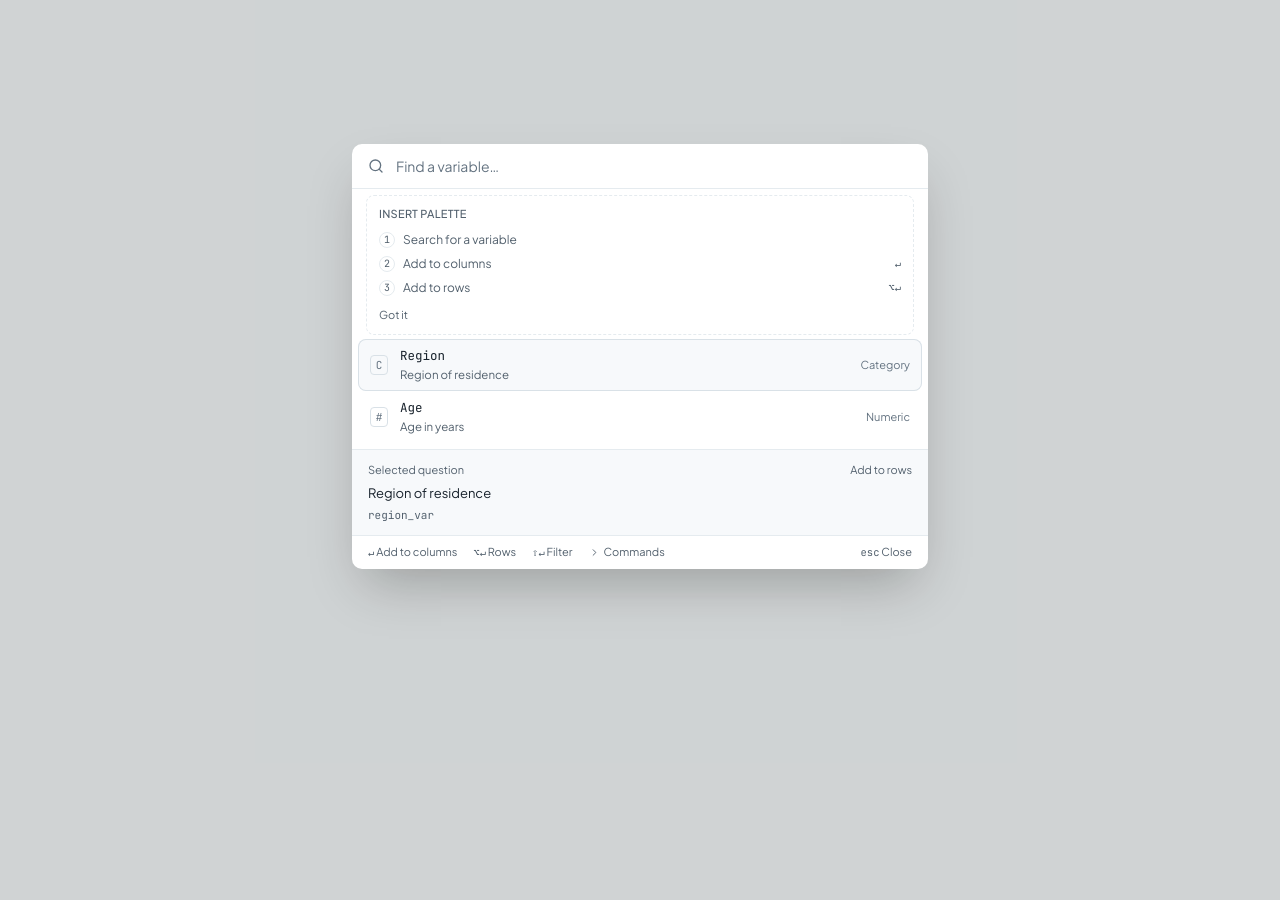
Test: CommandPalette (insert palette) › shows commands behind the > prefix
Type ">" into the field with placeholder "Find a variable…".
click(654, 166); type(">")  # box [396,156,912,176]
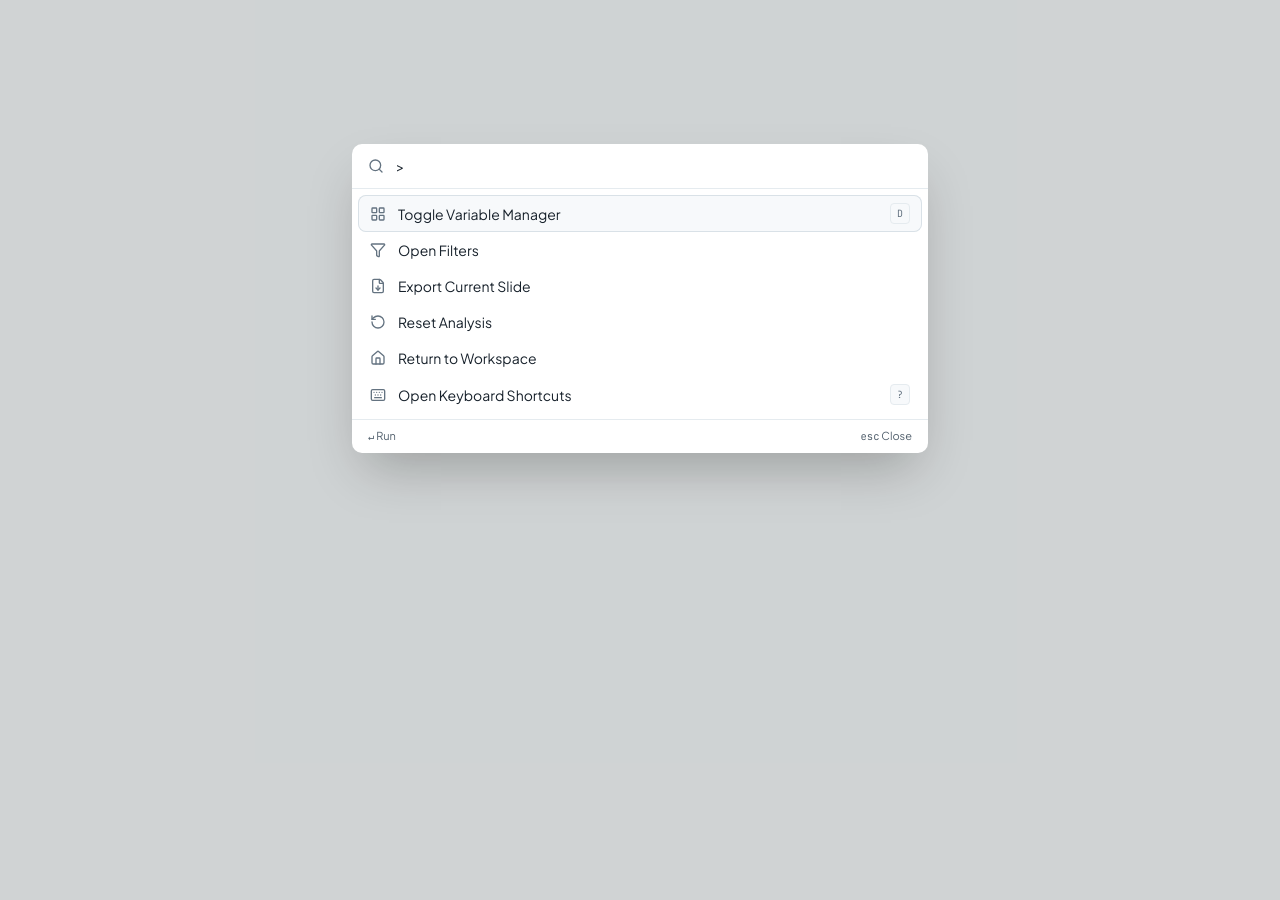
Now the text "Reset Analysis" is shown, box [398,313,492,331]
Now the text "Open Filters" is shown, box [398,241,479,259]
